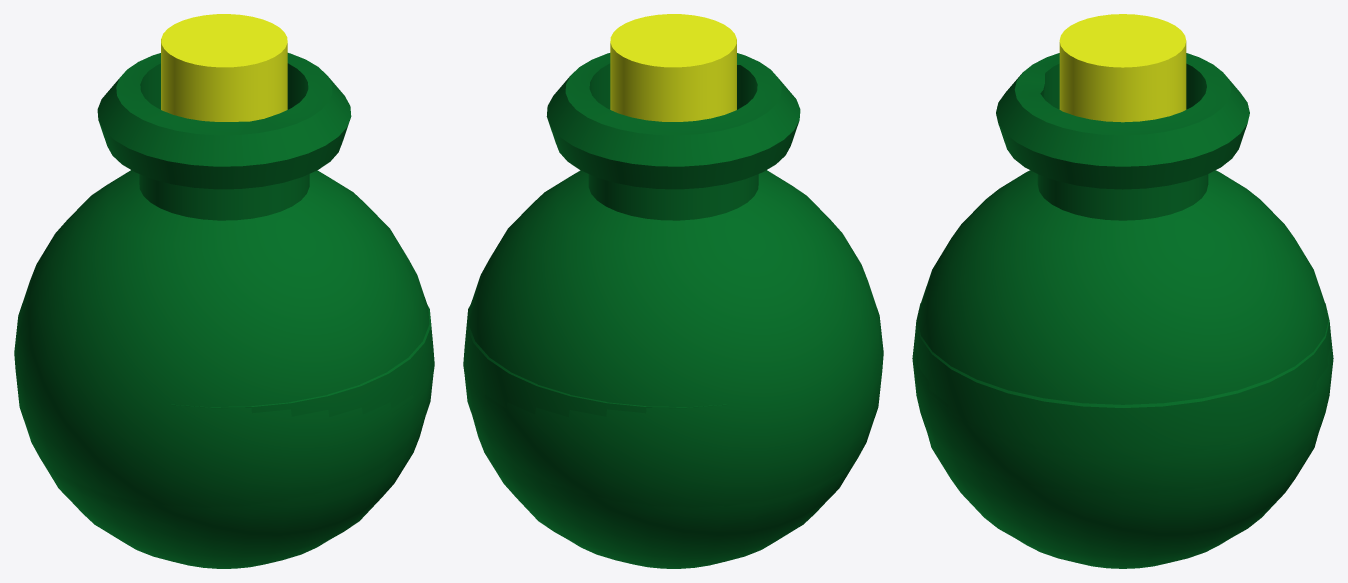
File: PotionHeal.fbx
The picture shows the model from 3 angles, left to right: view 1: azimuth 30°, elevation 25°; view 2: azimuth 150°, elevation 25°; view 3: azimuth 270°, elevation 25°; orthographic projection.
Visible parts, largest first — view 1: Sphere; view 2: Sphere; view 3: Sphere.
Part boxes in pixels (x1,y1,x2,y2): Sphere: (14,14,434,568); Sphere: (463,14,883,568); Sphere: (912,14,1333,568).
Bounding box in the file's own units: 327 × 436 × 327.
